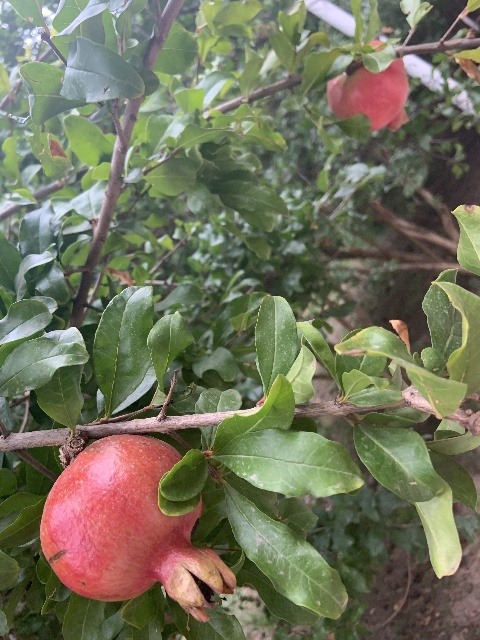ripe: (40, 433, 236, 626), (326, 41, 409, 132)
